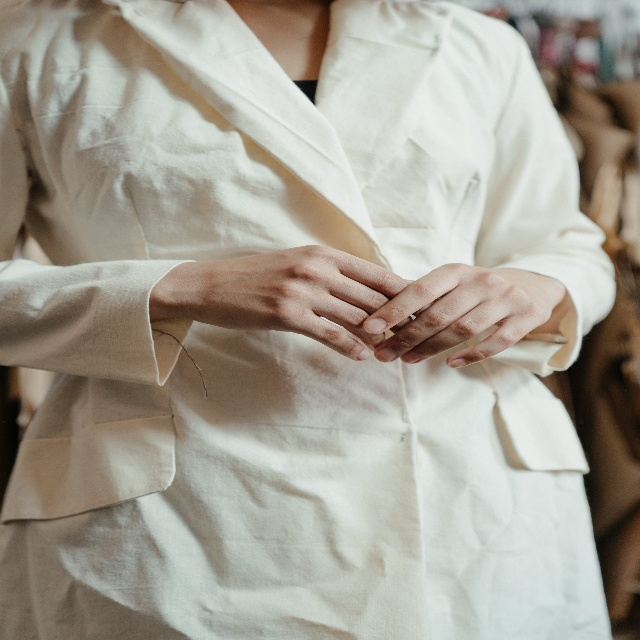Sin_guantes: (179, 243, 406, 363), (362, 262, 555, 370)
